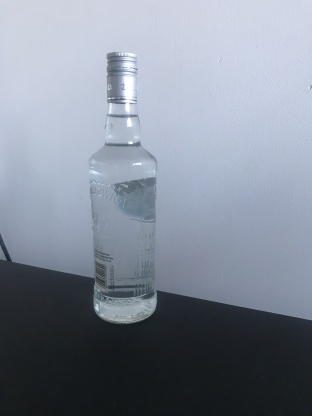nakretka: (105, 50, 138, 105)
